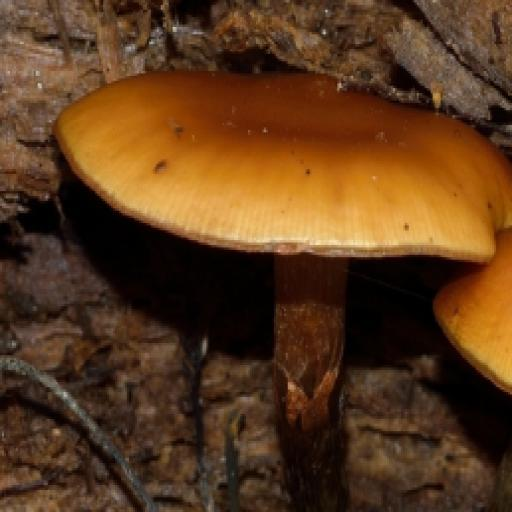mushroom: (40, 48, 512, 408)
